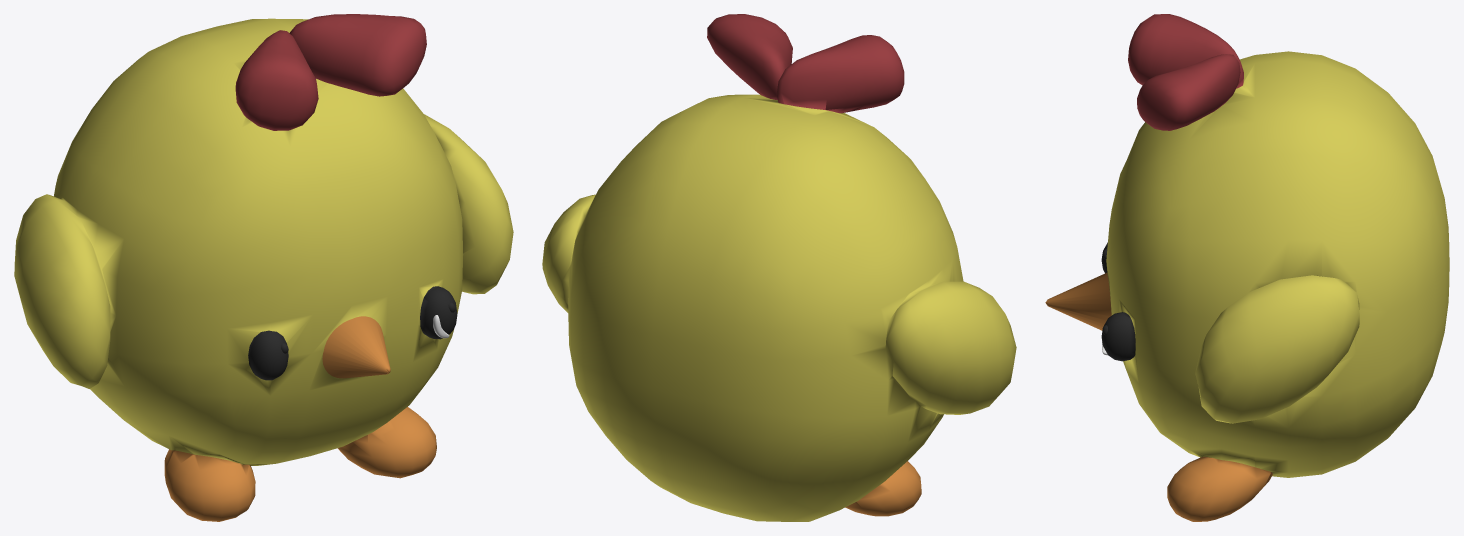
File: chicken_child_2.glb
3 views of the same model, side by side, from view 1: azimuth 30°, elevation 25°; view 2: azimuth 150°, elevation 25°; view 3: azimuth 270°, elevation 25° (orthographic). The views are drawn at different scales.
Parts seen in each view (by area): view 1: Merge.001; view 2: Merge.001; view 3: Merge.001.
Part boxes in pixels (x1=…): Merge.001: x1=14, y1=14, x2=513, y2=521; Merge.001: x1=542, y1=14, x2=1016, y2=521; Merge.001: x1=1045, y1=14, x2=1449, y2=521.
Size of the model in its own units: 0.4536 by 0.4364 by 0.3689.
